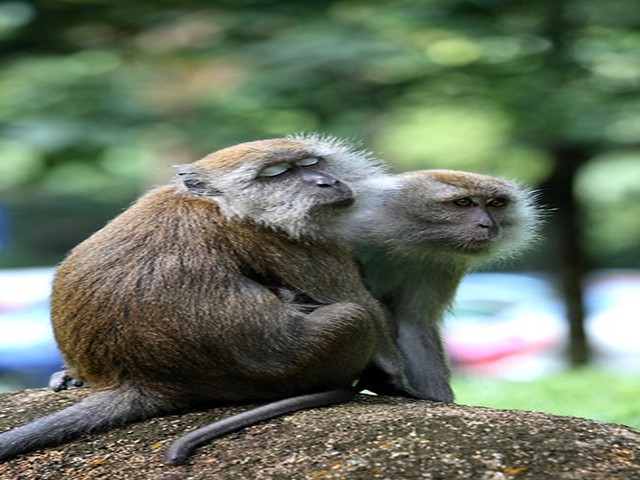Monkey: (46, 136, 545, 447)
